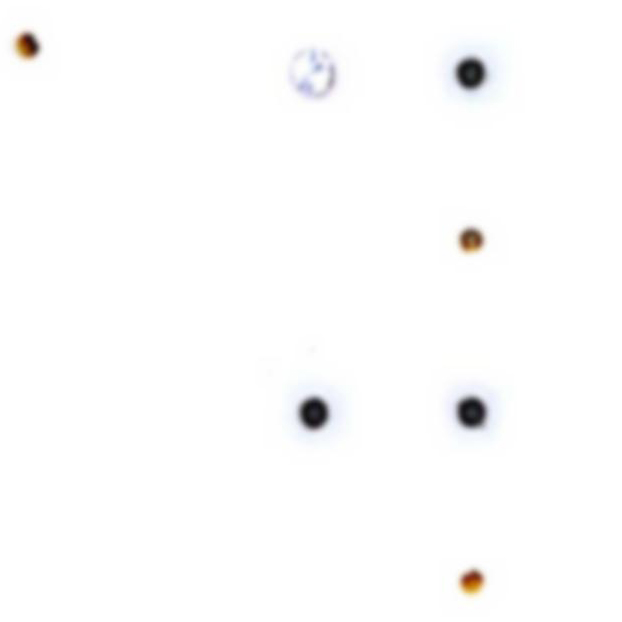abnormal: (277, 31, 354, 111)
cancer: (435, 42, 514, 108), (443, 373, 509, 446), (289, 385, 357, 448)
normal: (448, 207, 506, 270), (447, 558, 498, 605), (7, 22, 53, 68)
